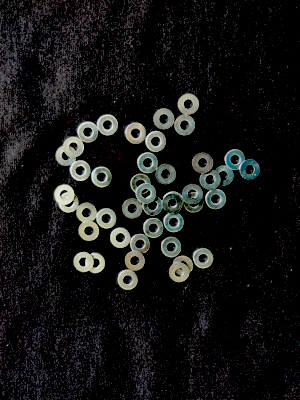circle: (178, 93, 201, 115), (97, 114, 119, 137), (70, 160, 92, 182), (175, 114, 196, 136), (146, 131, 167, 153), (182, 184, 204, 205), (184, 192, 205, 214), (130, 234, 151, 256), (91, 167, 113, 188), (154, 109, 175, 130), (240, 160, 261, 181), (225, 150, 246, 171), (193, 153, 214, 174), (214, 166, 235, 187), (156, 164, 177, 185), (126, 123, 147, 144), (78, 122, 99, 143), (161, 237, 182, 258), (125, 251, 146, 272), (110, 228, 131, 249), (97, 209, 118, 230), (122, 199, 143, 220), (59, 193, 80, 214), (54, 185, 75, 206), (56, 146, 77, 167), (63, 137, 84, 158), (200, 170, 222, 190), (207, 188, 227, 210), (193, 249, 215, 269), (86, 253, 106, 275), (138, 153, 158, 174), (131, 174, 151, 195), (136, 184, 156, 205), (164, 191, 184, 212), (144, 218, 164, 239), (118, 271, 139, 291), (79, 222, 100, 242), (74, 252, 94, 273), (169, 263, 189, 283), (173, 256, 193, 276), (143, 196, 163, 216), (163, 194, 183, 214), (164, 213, 184, 233), (77, 203, 97, 223)
